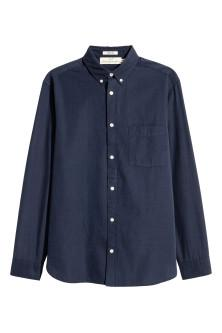teeshirt: (8, 44, 213, 290)
